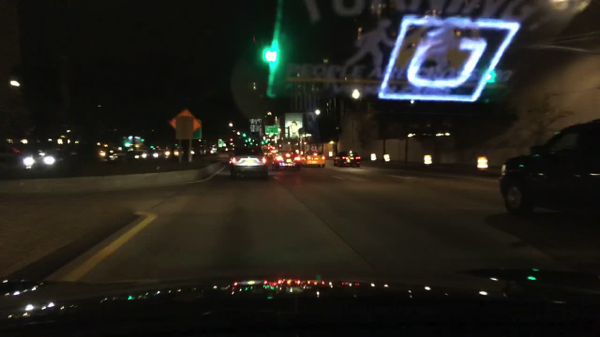car: (499, 118, 598, 225), (18, 149, 81, 172), (229, 149, 269, 180), (272, 150, 301, 171), (333, 151, 361, 167), (303, 151, 326, 168), (164, 147, 182, 160), (107, 153, 128, 162), (133, 149, 149, 160), (147, 150, 164, 160), (206, 147, 218, 154)
traffic light: (242, 133, 247, 138), (260, 141, 265, 145), (244, 140, 249, 144), (229, 137, 233, 142), (250, 141, 253, 146)
traffic sign: (169, 109, 200, 138), (175, 117, 194, 141), (261, 41, 278, 65), (190, 118, 201, 140), (265, 126, 278, 133), (218, 141, 223, 148), (272, 124, 278, 126)
